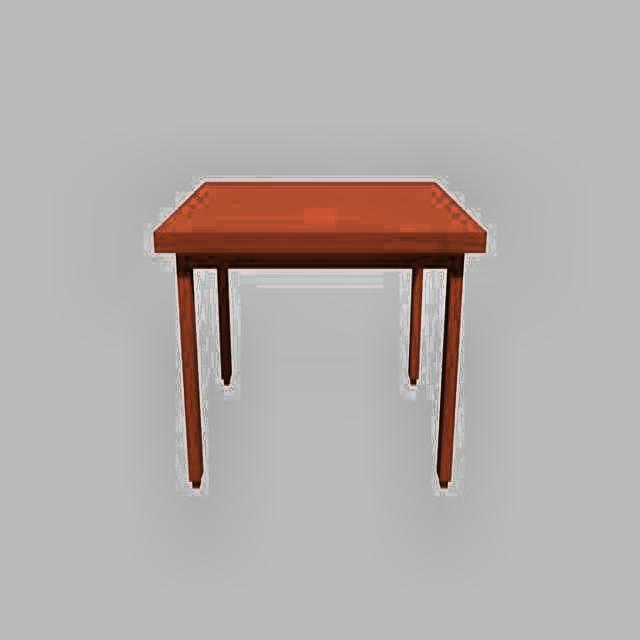mesa: (155, 178, 488, 491)
